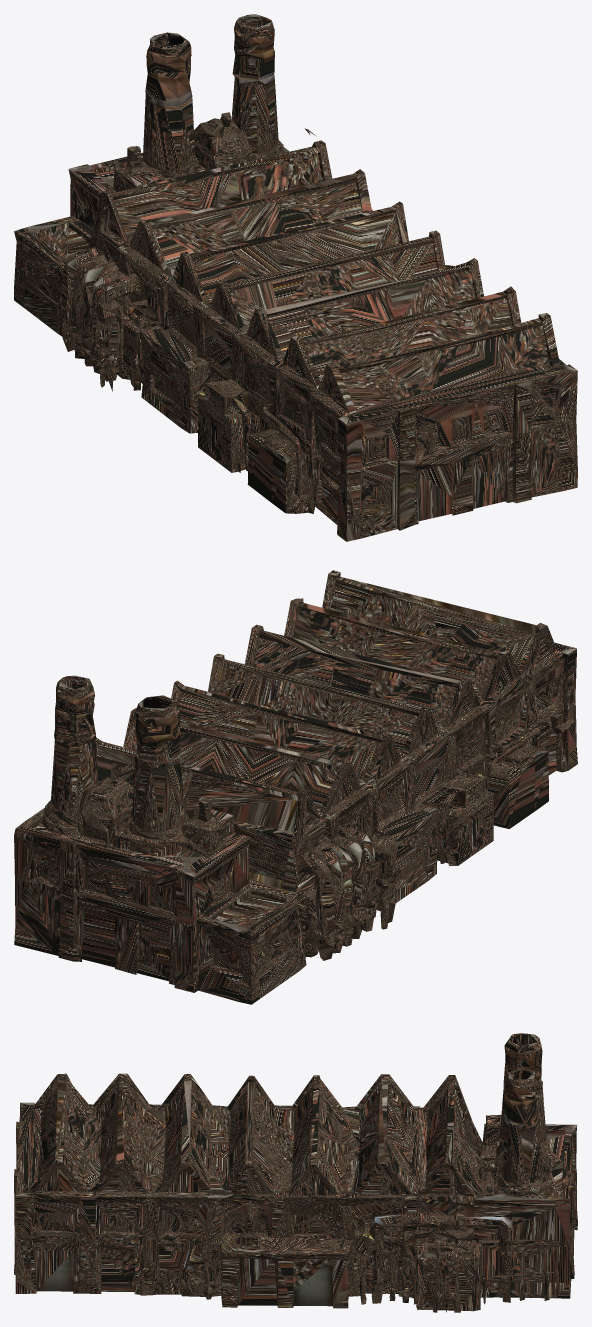
File: factory_2x4.glb
3 renders of one model, top to bottom at view 1: azimuth 30°, elevation 25°; view 2: azimuth 150°, elevation 25°; view 3: azimuth 270°, elevation 25°, orthographic. The views are drawn at different scales.
Visible parts, largest first — view 1: normalize; view 2: normalize; view 3: normalize.
Boxes of the visible parts, box(x1,y1,x2,y2) form: normalize: box(14, 14, 577, 541); normalize: box(14, 570, 577, 1004); normalize: box(14, 1033, 577, 1312).
Bounding box in the file's own units: 0.5295 × 0.4145 × 1.
Materials: 1 (1 with a texture image).
